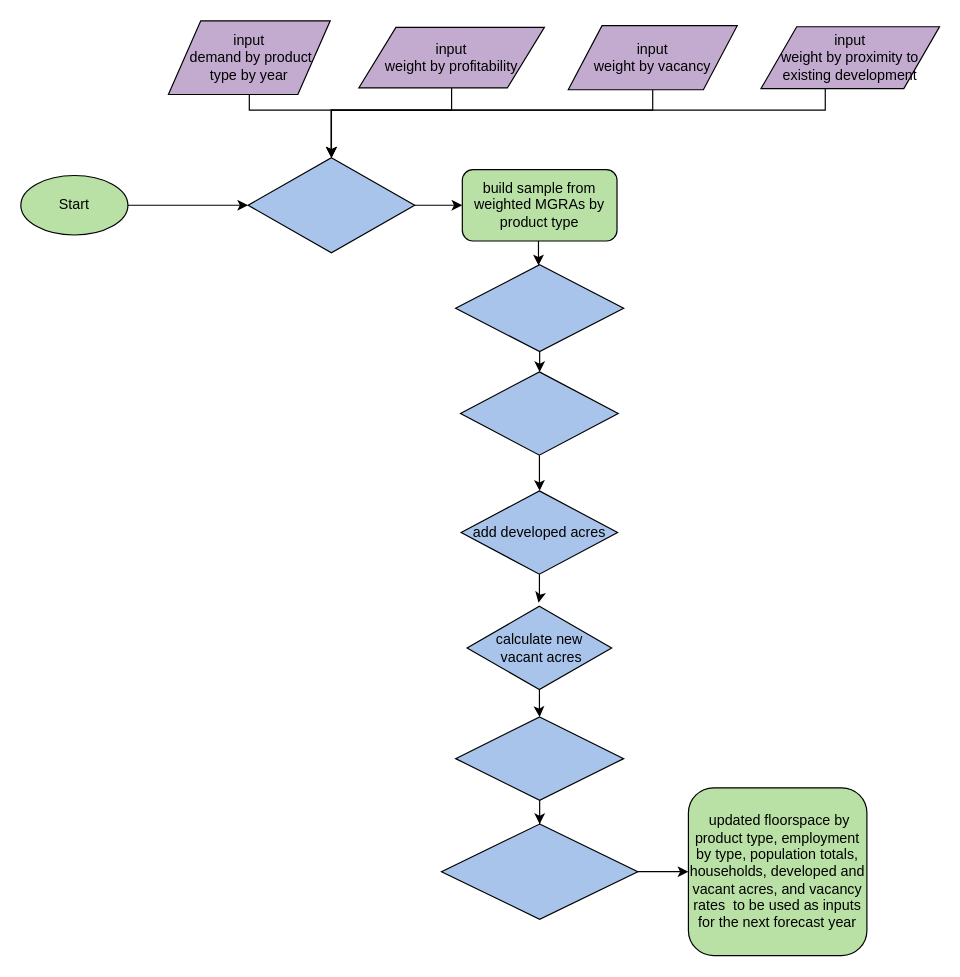
Some shapes in this 960 by 977 pixel diagram are drawn without their labels. Each missing label, with the centre of its shape:
"add employment" belongs at (538,413).
"add floorspace by product type" belongs at (539,308).
"add population and households" belongs at (539,758).
"calculate new vacancy rate" belongs at (539,871).
"Select MGRA from weighted list" belongs at (331,204).
